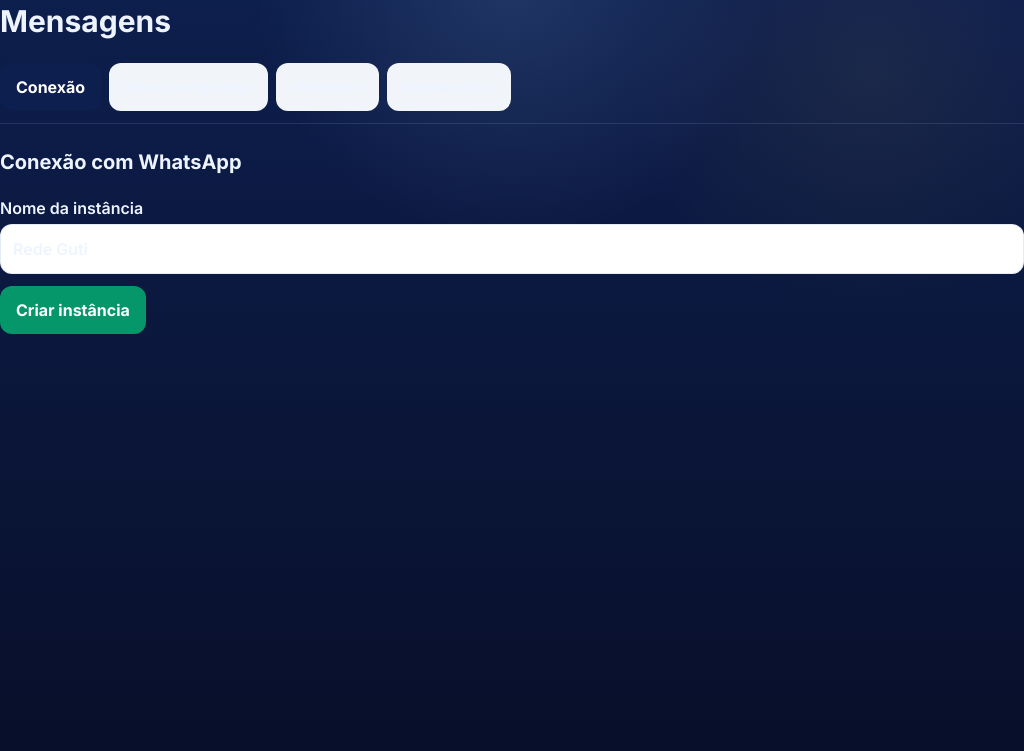
Test: MensagensPanel › blocks preview until the composed content is valid
This screenshot has width=1024, height=751.
Click the tab "Nova campanha" at (188, 87), box [109,63,268,111]
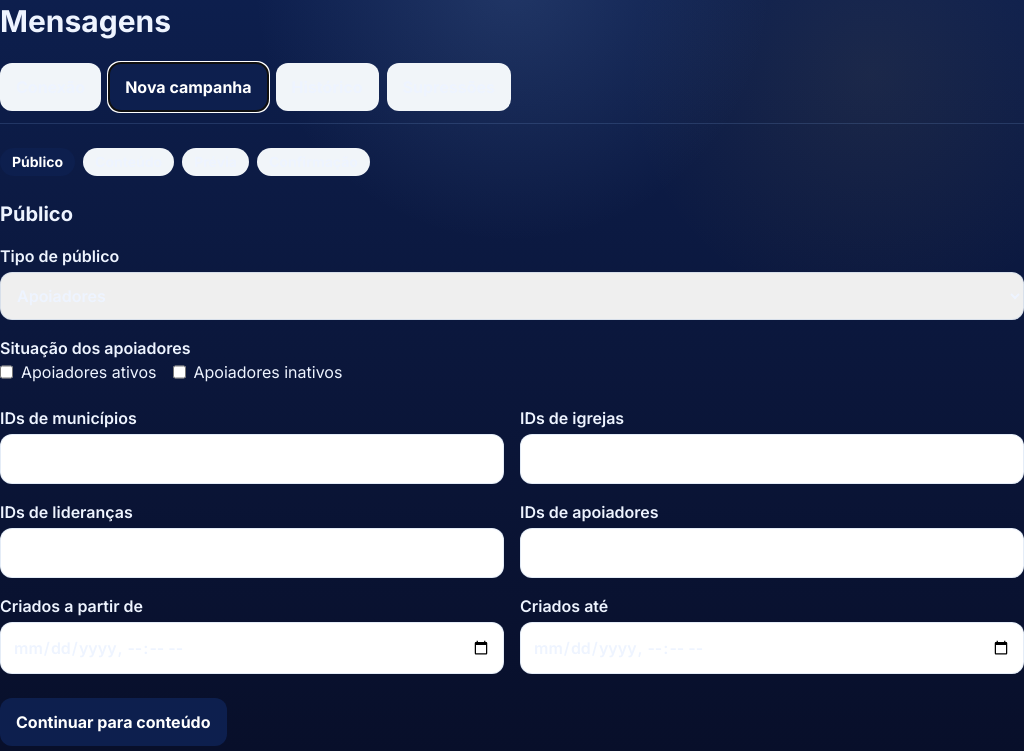
Click the button "Continuar para conteúdo" at (113, 722), box [0,698,226,746]
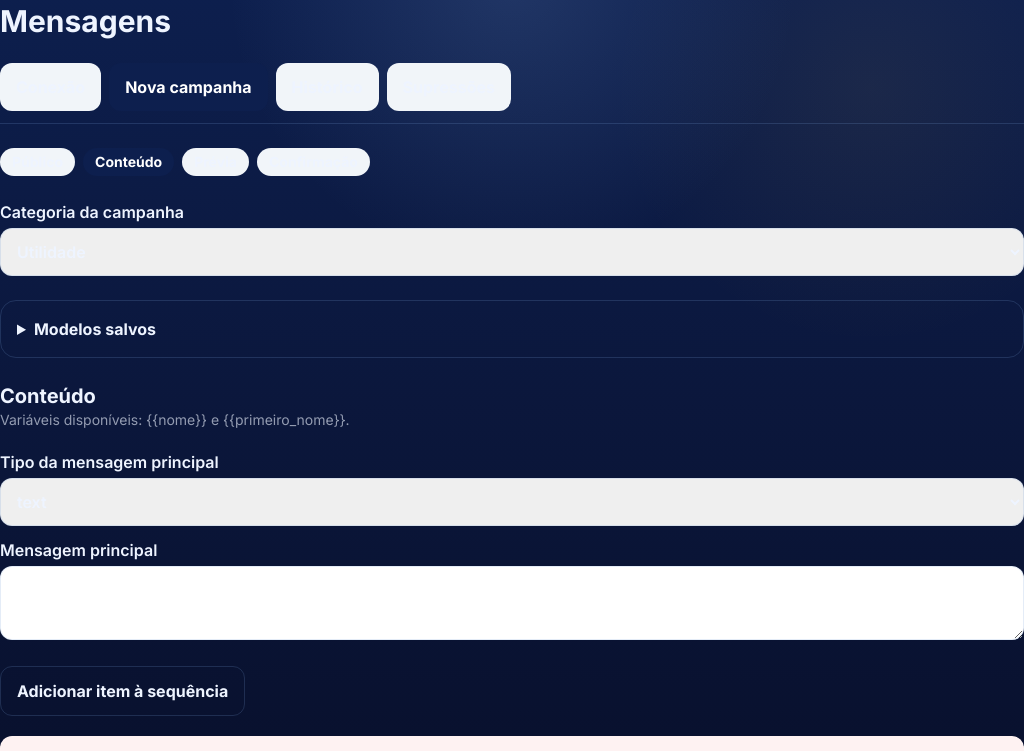
Type "Olá" into the text box labelled "Mensagem principal" at (512, 603), box [0,566,1023,640]
(page scrolled)
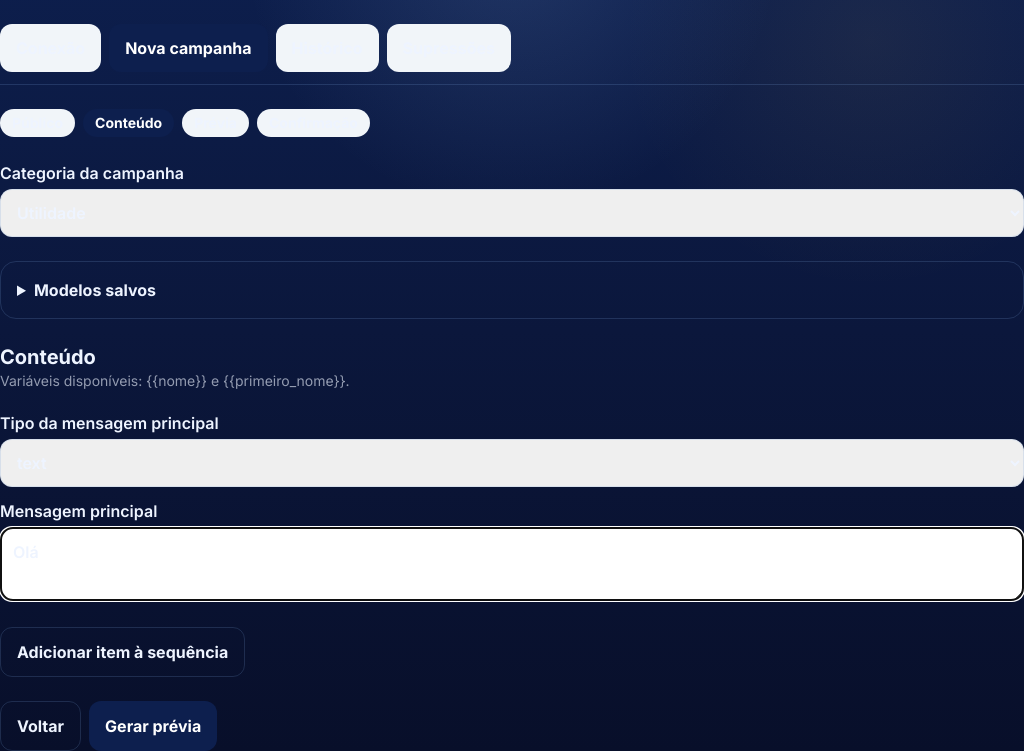
Now the button "Gerar prévia" is enabled, box [89,701,217,750]
